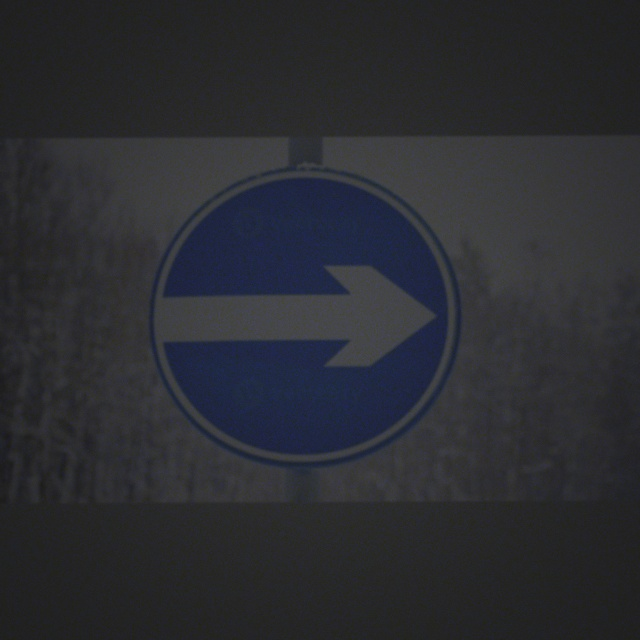Compulsory_Turn_Right: (149, 164, 463, 465)
